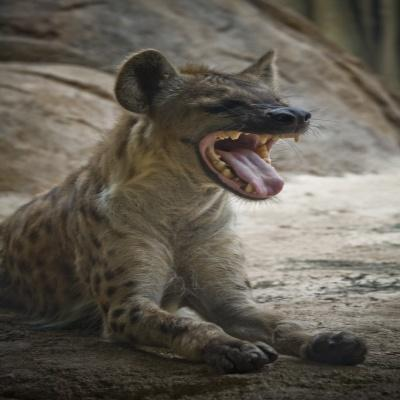hyenas: (0, 0, 400, 392)
